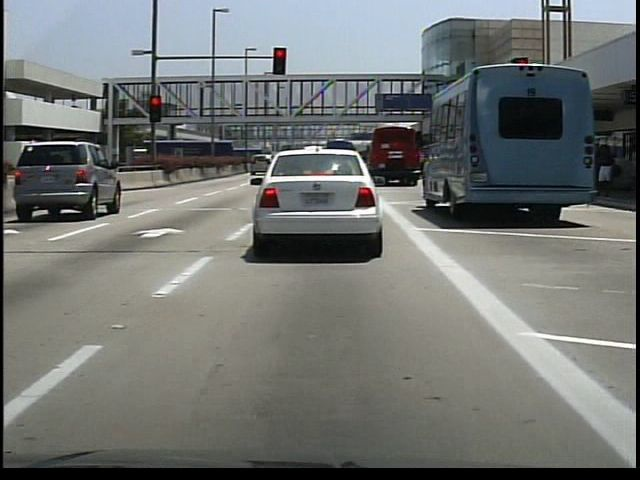person: (595, 140, 616, 195)
